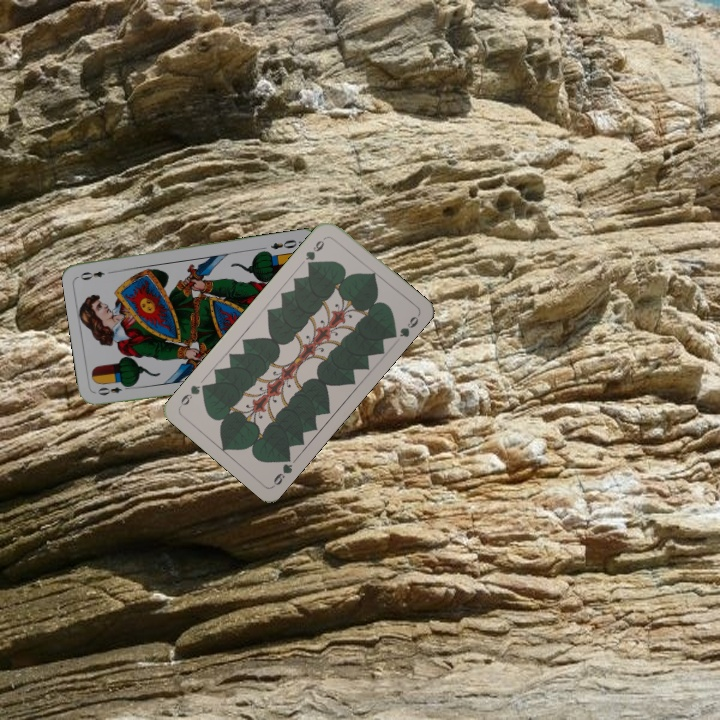EO: (94, 380, 133, 398), (267, 235, 300, 252)
G9: (269, 450, 295, 489), (301, 236, 327, 270)
